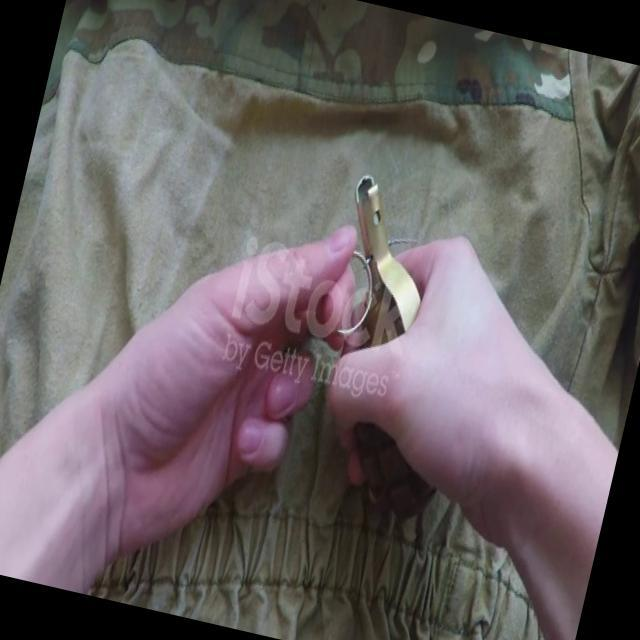grenade: (291, 174, 498, 522)
